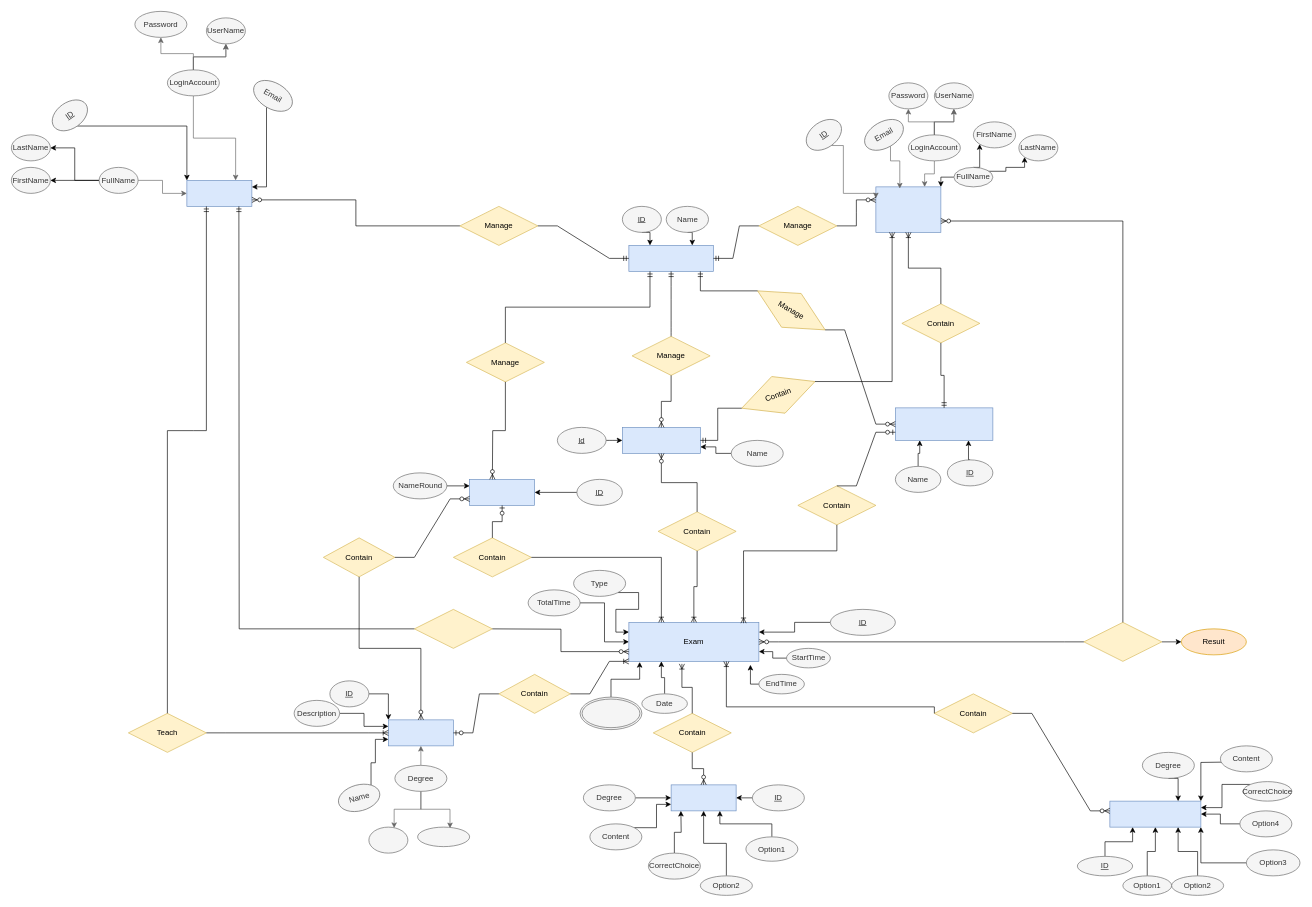
This 1312x907 diagram has some shape labels left out. The box of each missing label's shape, as (x1, y1, x2, y2) in pixels:
AllowanceOption: (579, 696, 642, 730)
Attend: (1083, 622, 1162, 661)
Branch: (622, 427, 700, 453)
Course: (388, 719, 453, 746)
Instructor: (186, 180, 252, 206)
Intake: (469, 479, 535, 505)
Make: (414, 609, 492, 648)
MaxDegree: (368, 826, 408, 853)
Mcq: (1109, 800, 1201, 827)
MinDegree: (417, 826, 470, 847)
Student: (875, 186, 941, 232)
Track: (895, 407, 993, 440)
TrainingManager: (628, 245, 713, 271)
True&False: (670, 784, 736, 811)
